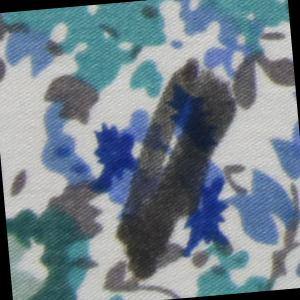Stain: (100, 52, 258, 285)
